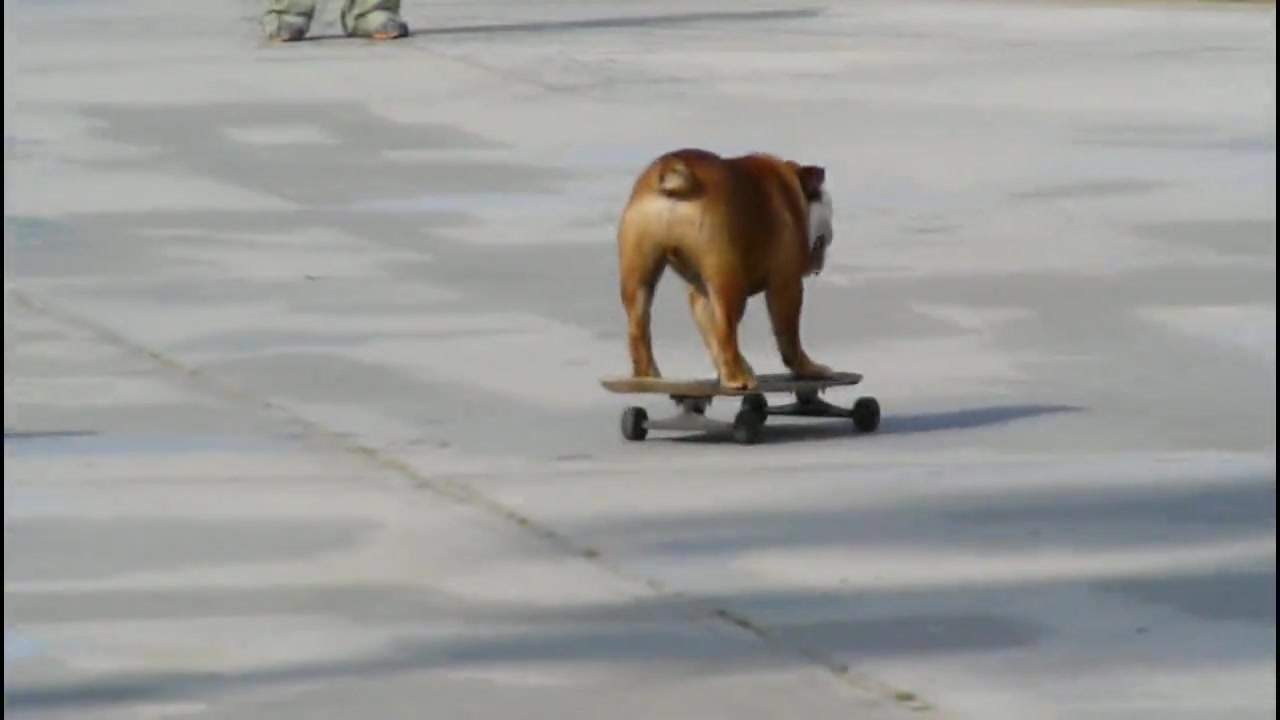dog: (618, 144, 844, 393)
